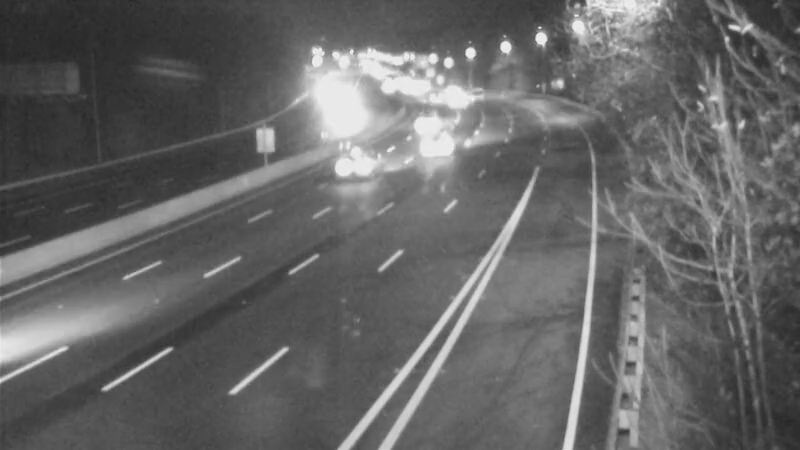vehicle: (317, 126, 397, 206), (405, 72, 455, 122), (429, 76, 479, 126), (398, 101, 448, 151), (410, 121, 460, 171), (315, 95, 365, 145)
